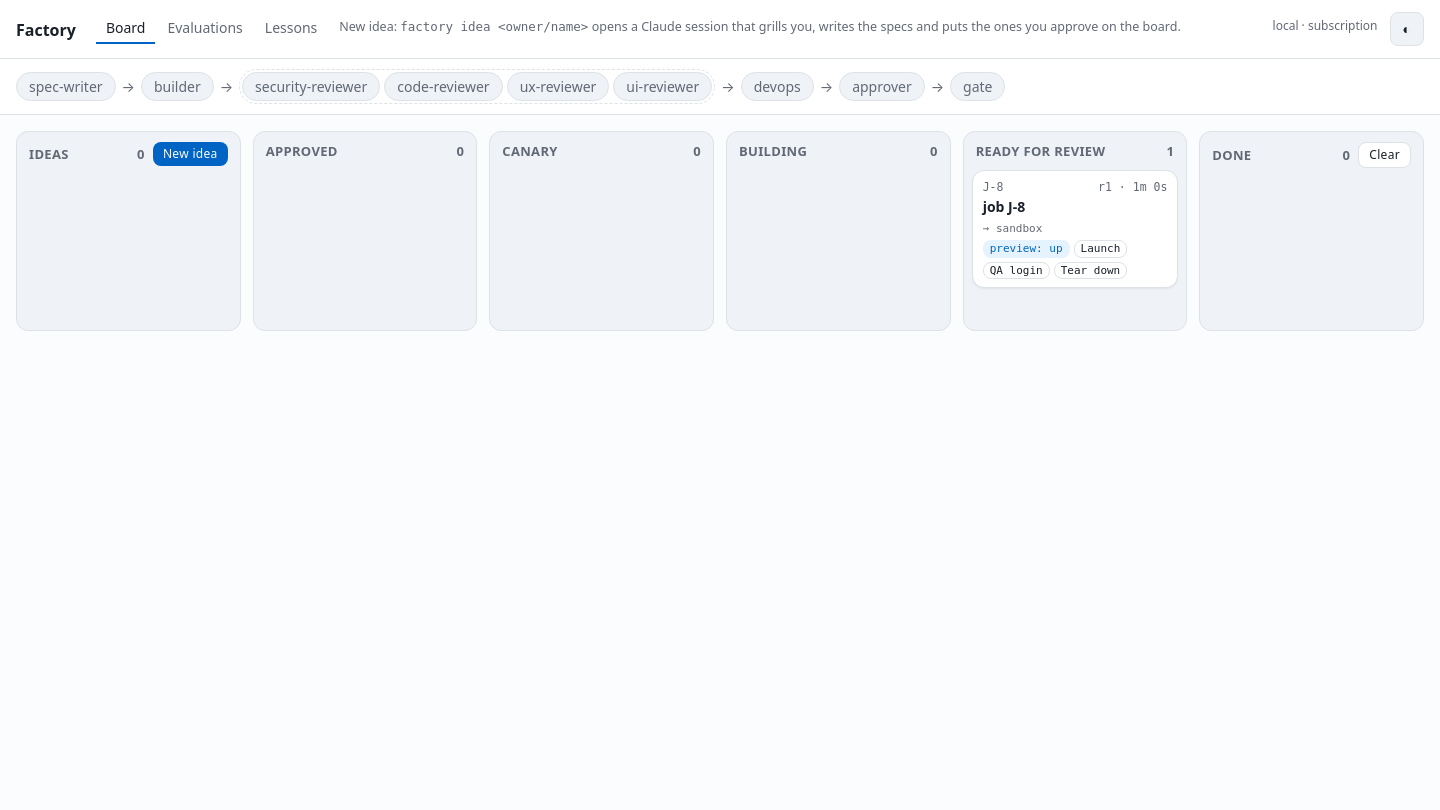
Test case: card actions › a live preview offers Launch, QA login and Tear down
Expected: the text "preview: up" is shown, [983,240,1070,258]
Click the button "QA login" at (1016,270), box [983,262,1050,279]
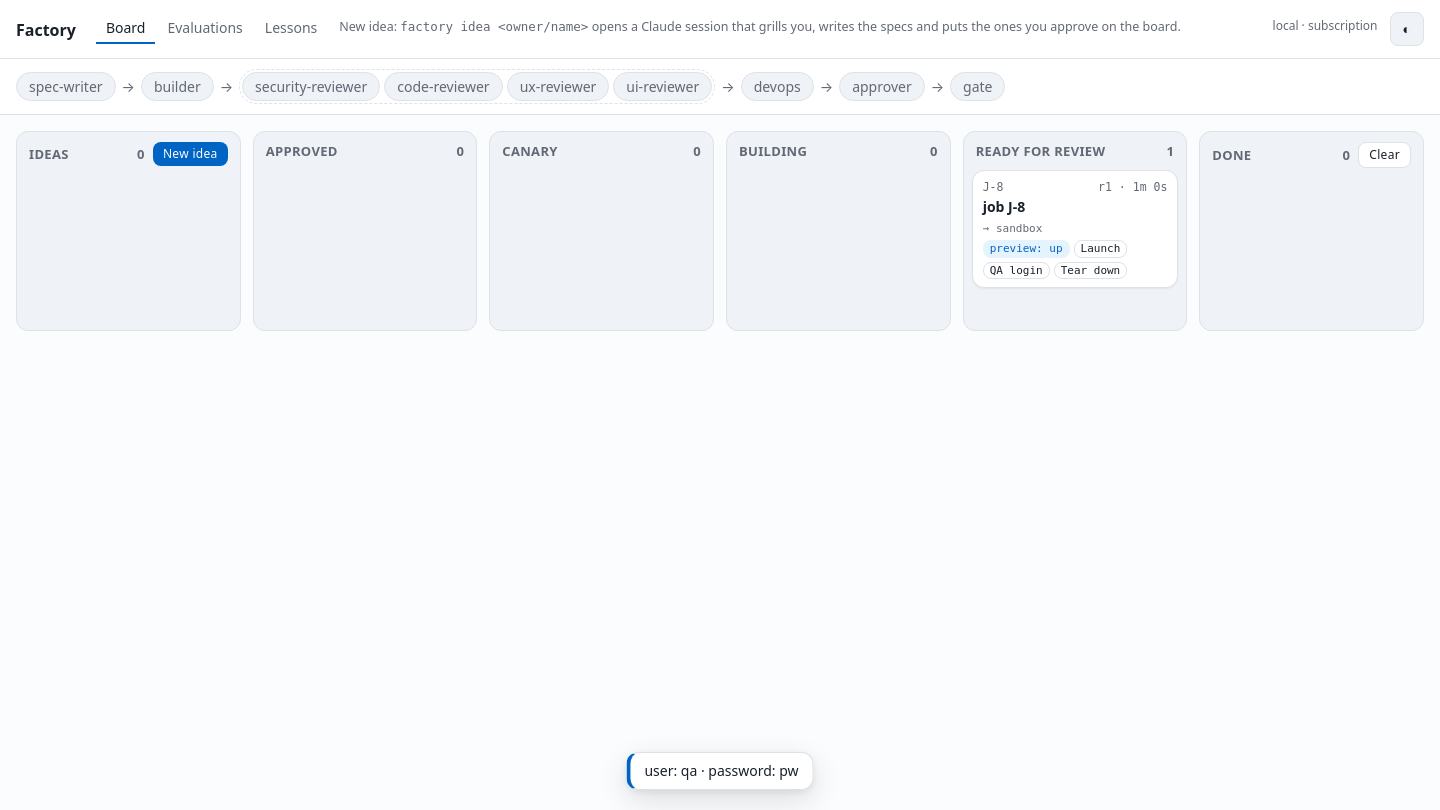
Now the message with id "toast" reads "user: qa · password: pw", box [644,761,798,780]
Click the button "Tear down" at (1090,270), box [1054,262,1127,279]
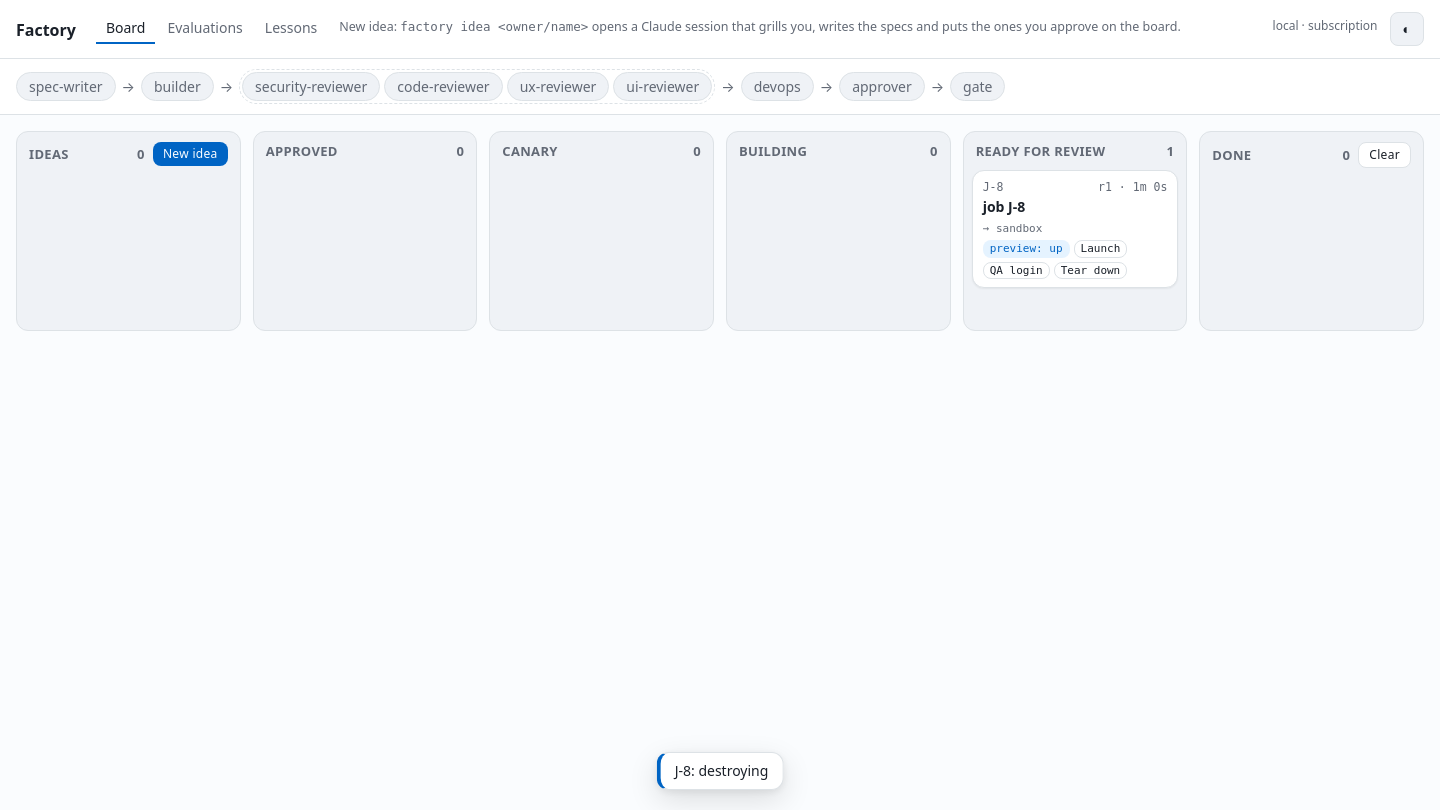
Now the message with id "toast" reads "J-8: destroying", box [675,761,768,780]
